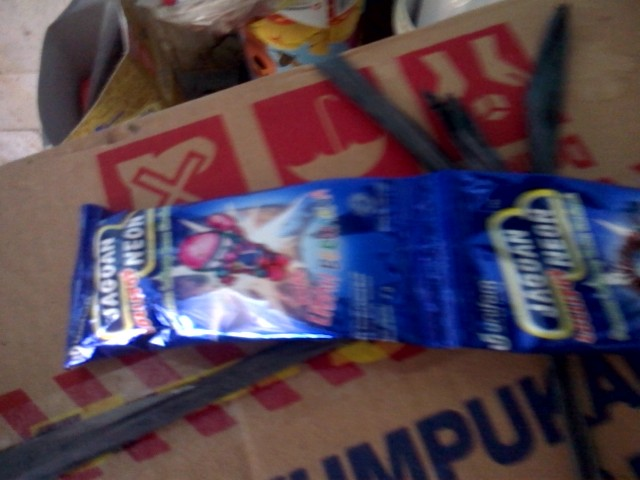jagoan neon: (63, 171, 433, 371), (435, 173, 640, 349)
